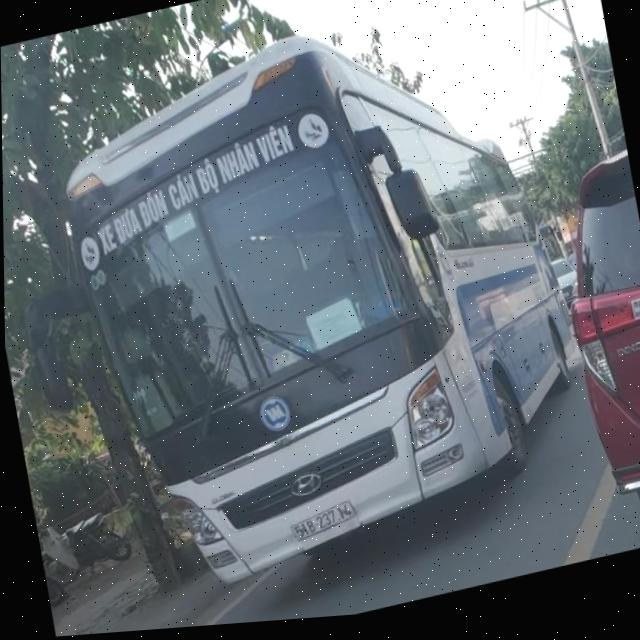car: (37, 0, 601, 620), (549, 155, 640, 545)
plate: (287, 494, 370, 547)
